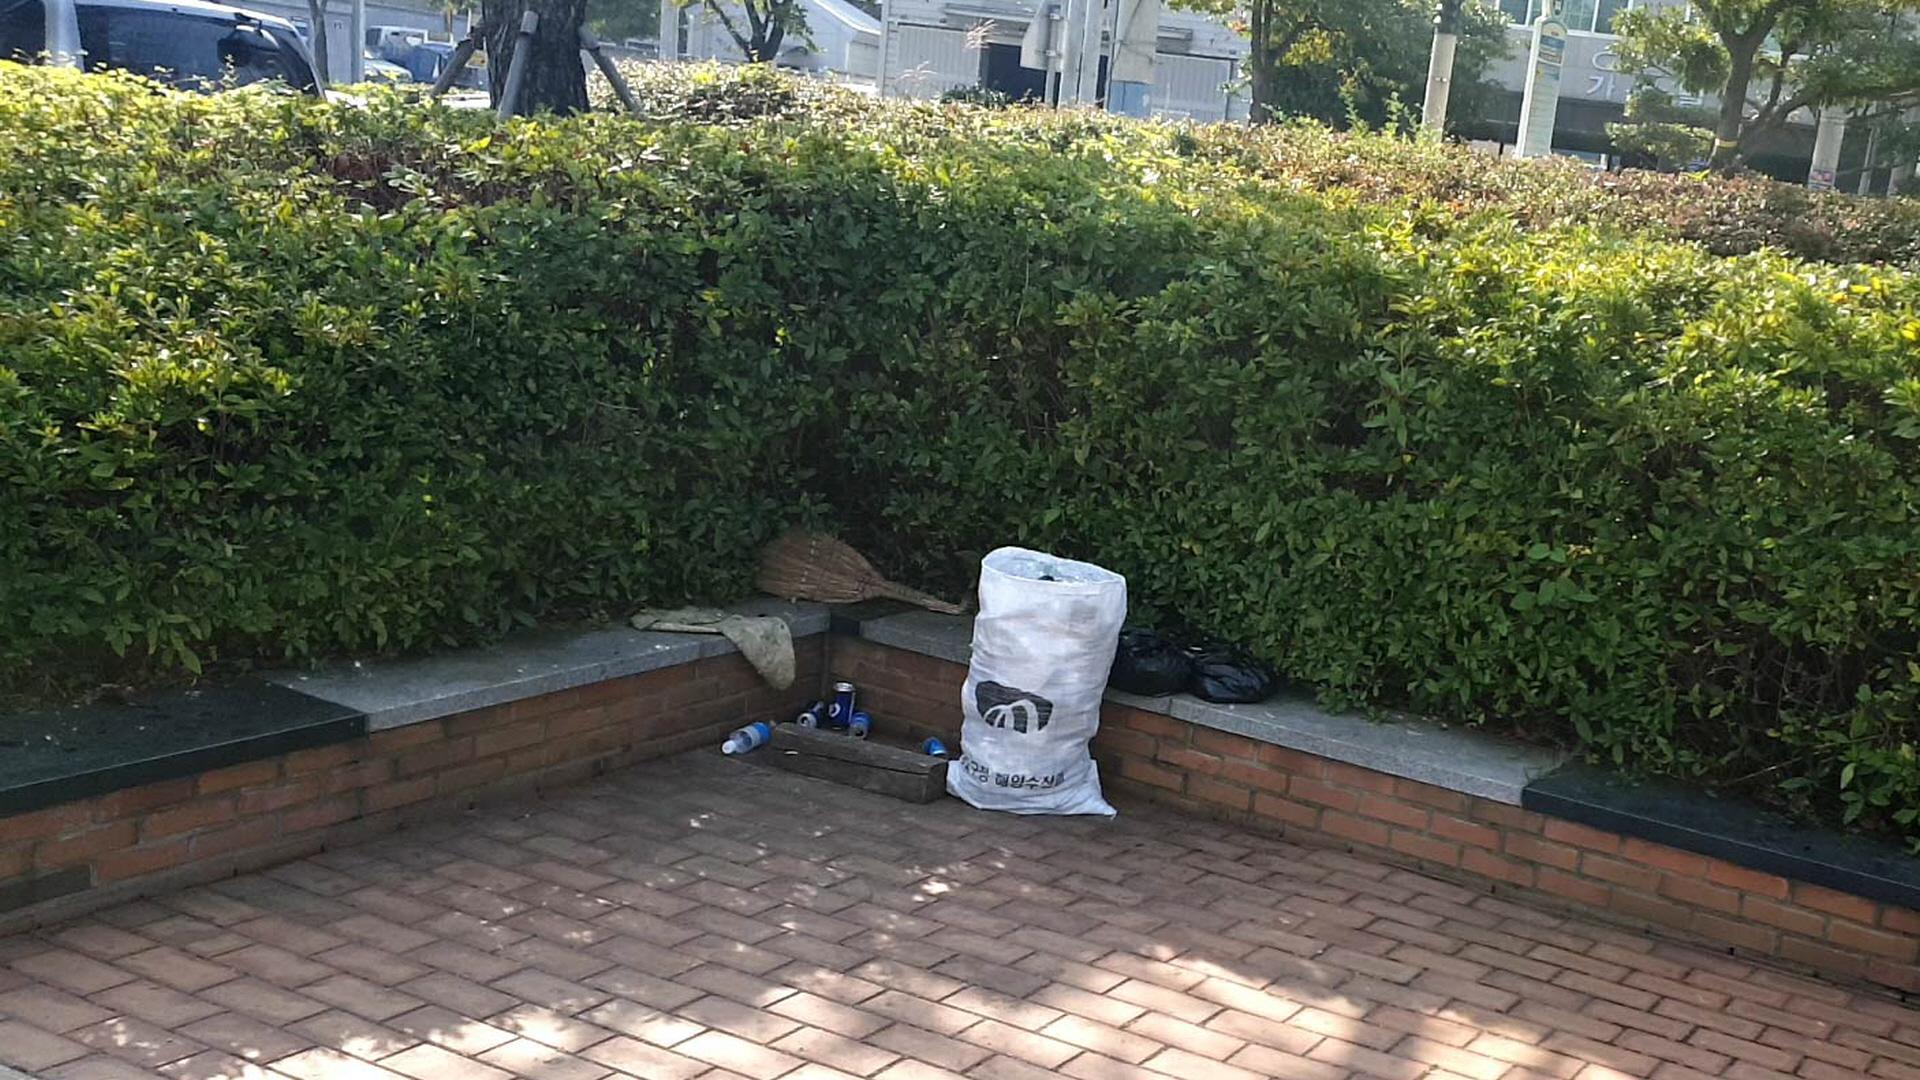black_bag: (1097, 607, 1195, 713), (1185, 637, 1280, 709)
white_bag: (932, 522, 1126, 836)
